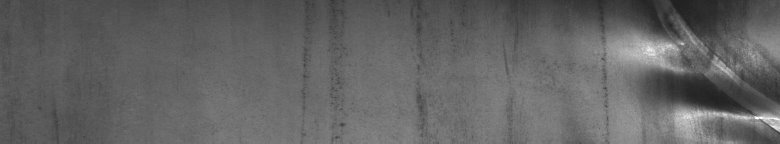ke: (664, 15, 776, 132)
